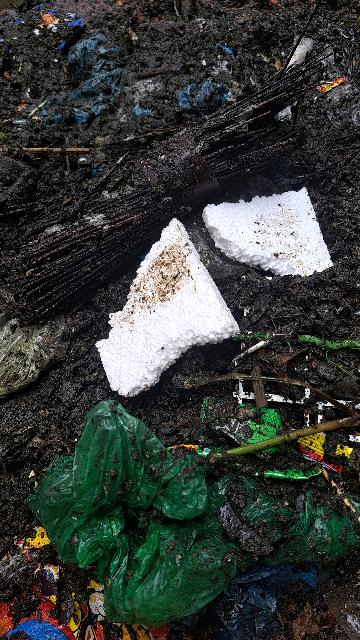cocksheet: (89, 173, 342, 423)
